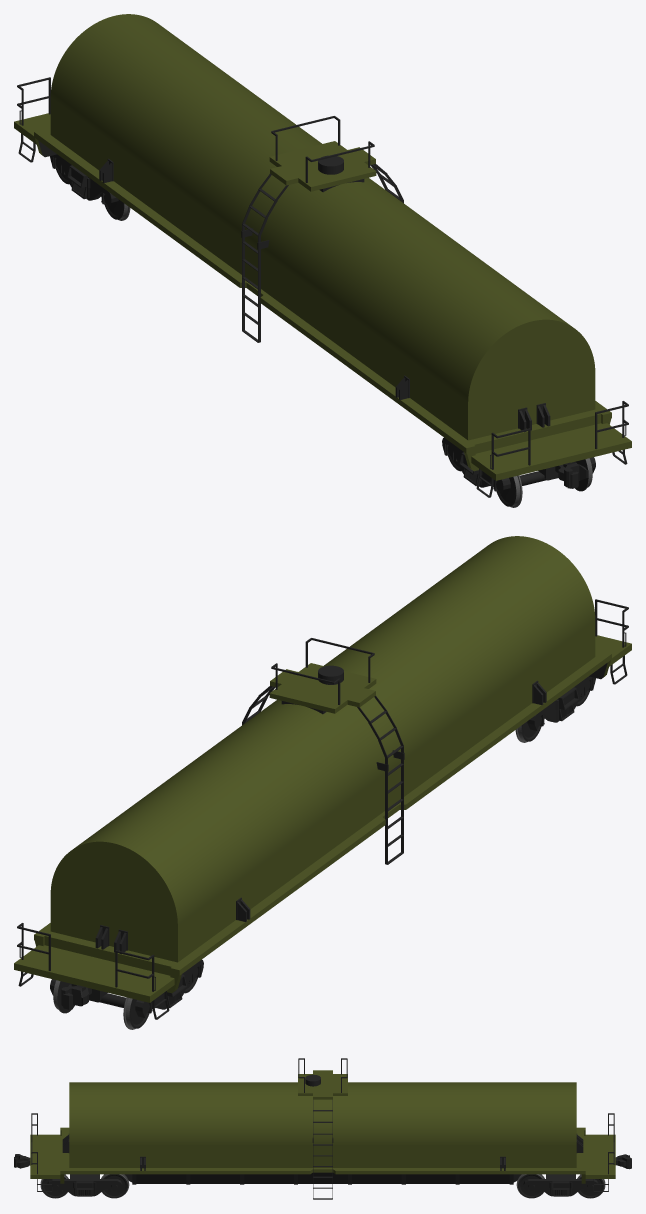
File: tankCar.glb
3 renders of one model, top to bottom at view 1: azimuth 30°, elevation 25°; view 2: azimuth 150°, elevation 25°; view 3: azimuth 270°, elevation 25°, orthographic. The views are drawn at different scales.
Parts seen in each view (by area): view 1: tanker, wheelHolder, wheel; view 2: tanker, wheelHolder, wheel; view 3: tanker, wheelHolder, wheel.
Boxes of the visible parts, <box> form: tanker: <box>14,14,631,497</box>; wheelHolder: <box>50,154,595,495</box>; wheel: <box>55,159,592,507</box>; tanker: <box>14,536,631,1019</box>; wheelHolder: <box>50,676,595,1017</box>; wheel: <box>53,681,590,1029</box>; tanker: <box>14,1058,631,1199</box>; wheelHolder: <box>47,1174,598,1196</box>; wheel: <box>40,1174,605,1198</box>.
Size of the model in its own units: 3.05 by 3.94 by 18.34.
